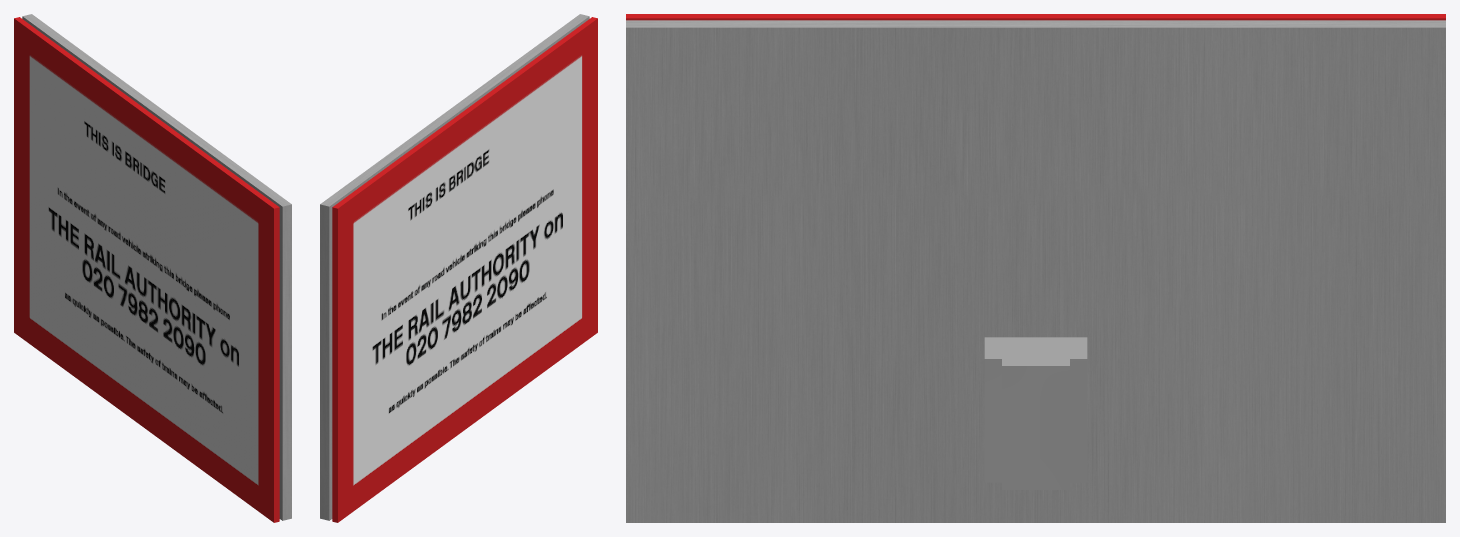
File: bridge_authority_medium.obj
3 views of the same model, side by side, from view 1: azimuth 30°, elevation 25°; view 2: azimuth 150°, elevation 25°; view 3: azimuth 270°, elevation 25° (orthographic). The views are drawn at different scales.
Parts seen in each view (by area): view 1: cube; view 2: cube; view 3: cube.
Part boxes in pixels (x1,y1,x2,y2): cube: (14,14,291,522); cube: (320,14,597,522); cube: (626,14,1445,522).
Size of the model in its own units: 0.0922 by 0.5 by 0.75.
Materials: 2 (2 with a texture image).
